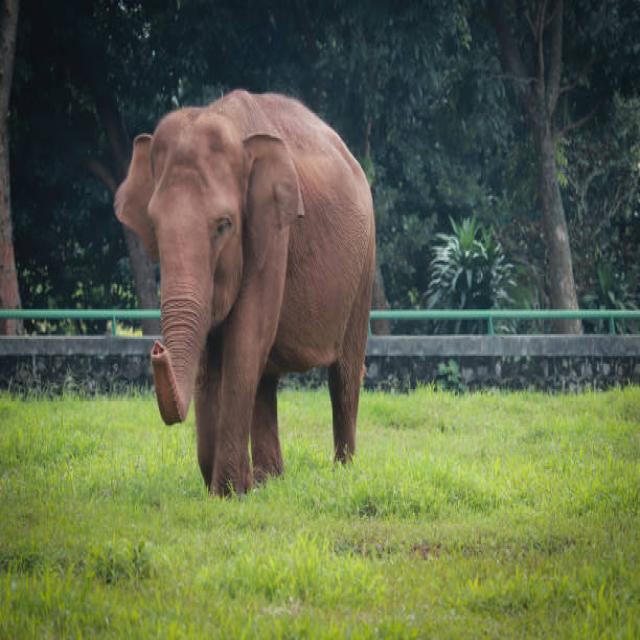Elephant: (106, 76, 374, 521)
